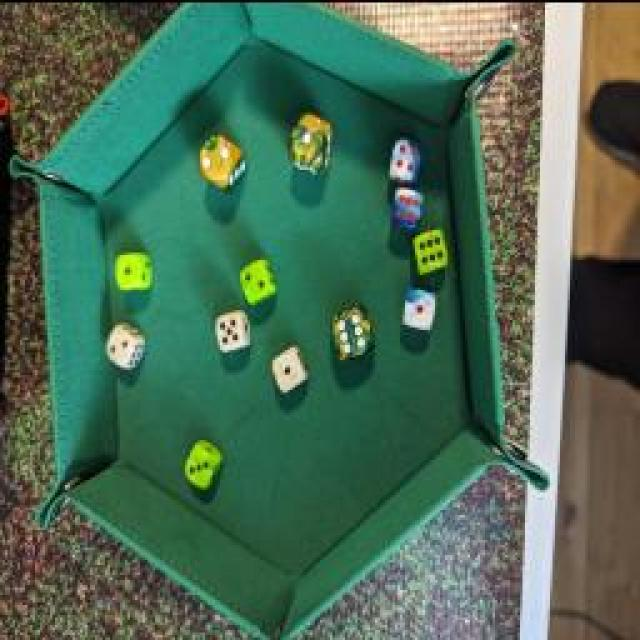dice_1: (285, 106, 337, 176), (398, 281, 440, 334), (269, 338, 309, 392), (112, 248, 158, 294)
dice_2: (199, 125, 249, 195), (235, 250, 280, 310), (101, 315, 149, 370)
dice_3: (182, 434, 226, 488)
dice_4: (384, 130, 424, 185)
dice_5: (212, 305, 252, 355)
dice_6: (328, 296, 372, 362), (408, 221, 450, 274), (385, 180, 425, 230)
